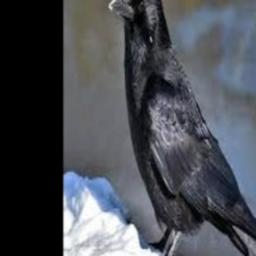Crow: (109, 0, 256, 256)
